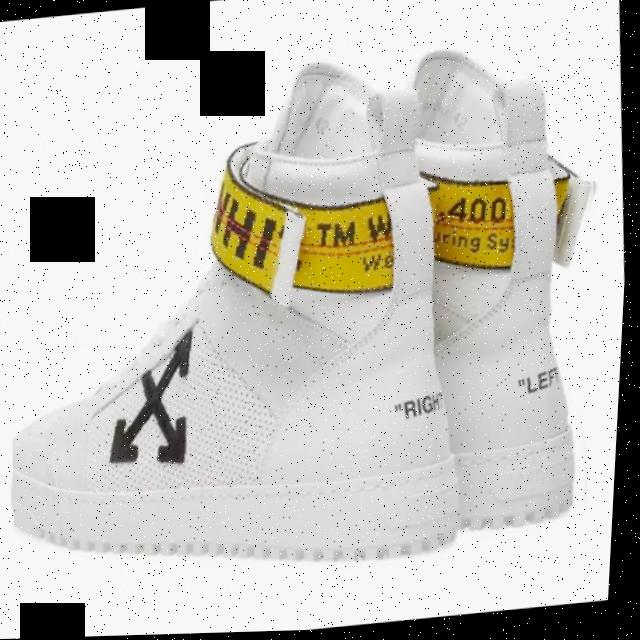shoe: (0, 27, 632, 601)
